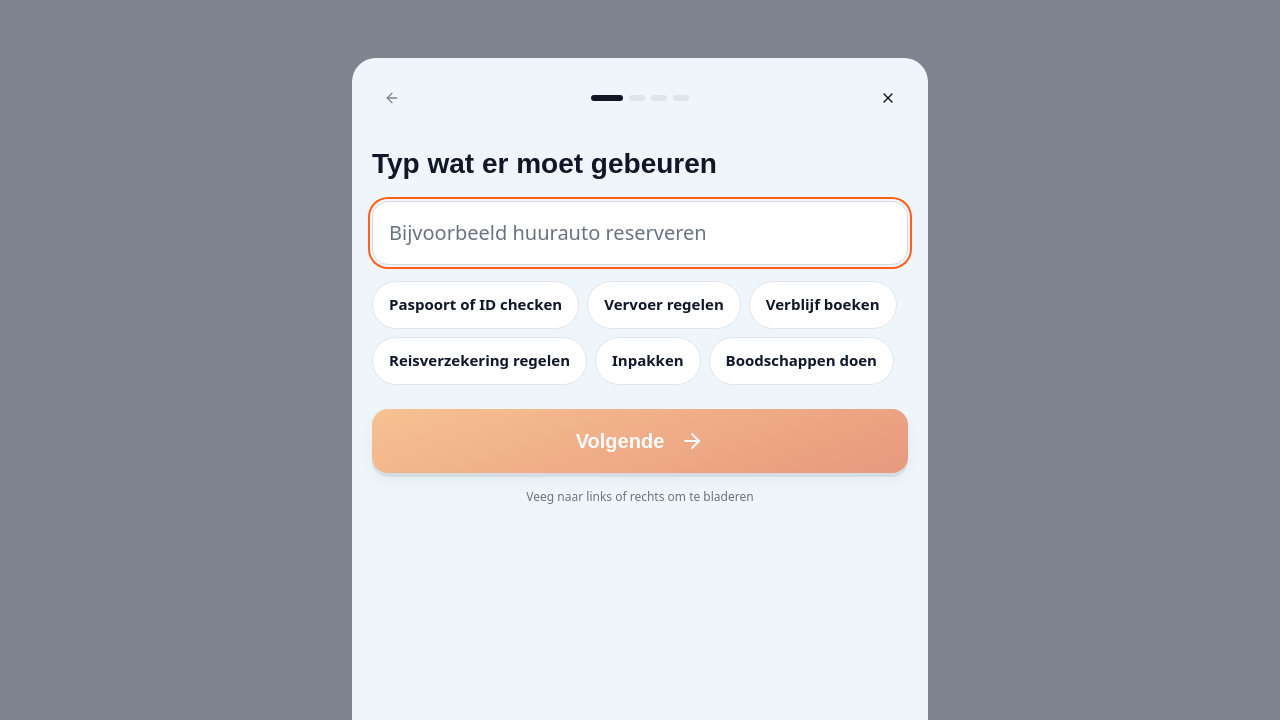
Test: task steps › suggestion → person → no date → summary, saved only on Taak toevoegen
Later steps or results of the test are not shown.
Click the button "Vervoer regelen": (664, 305) [587,281,741,329]
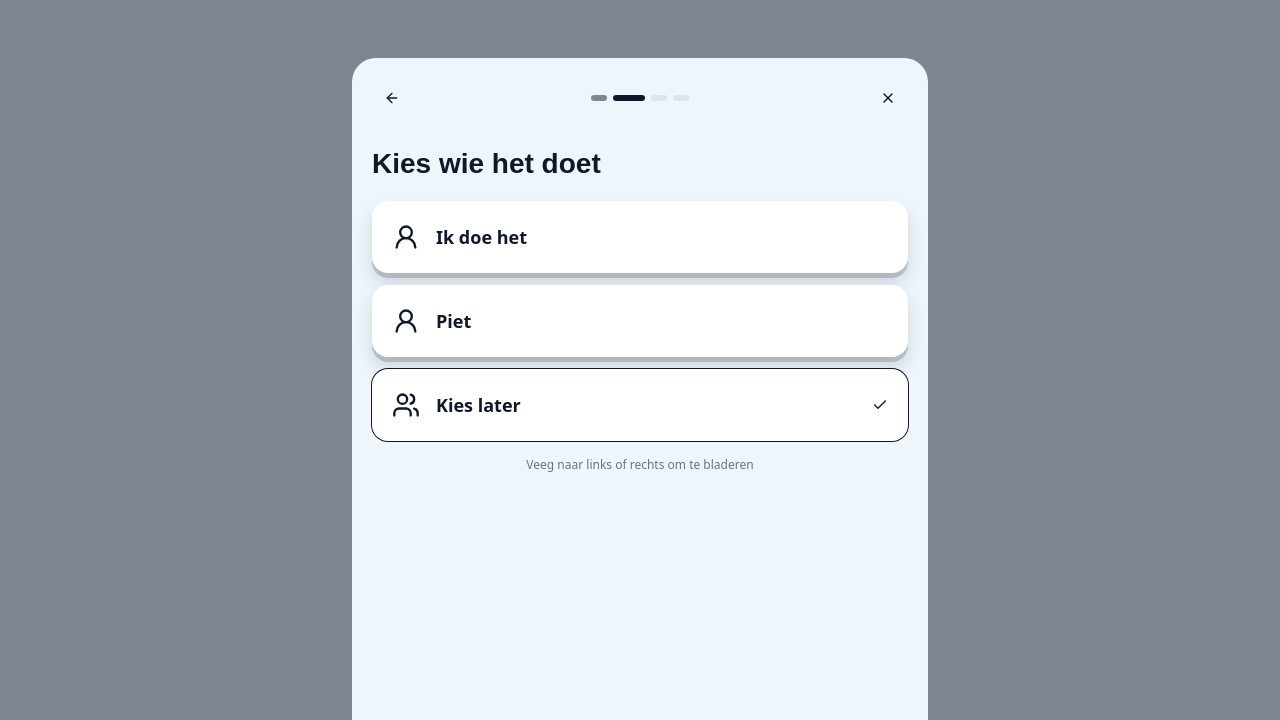
Click the button "Piet": (454, 321) [372,285,908,357]
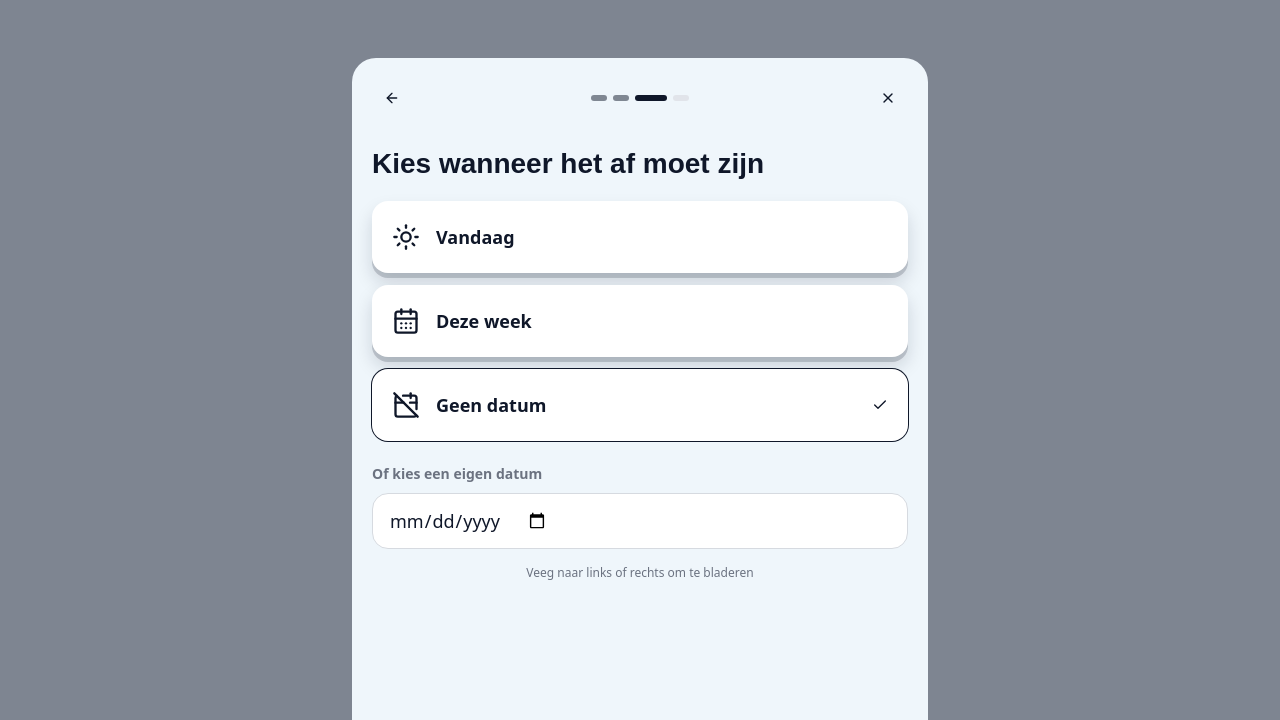
Click the button "Geen datum": (491, 405) [372,369,908,441]
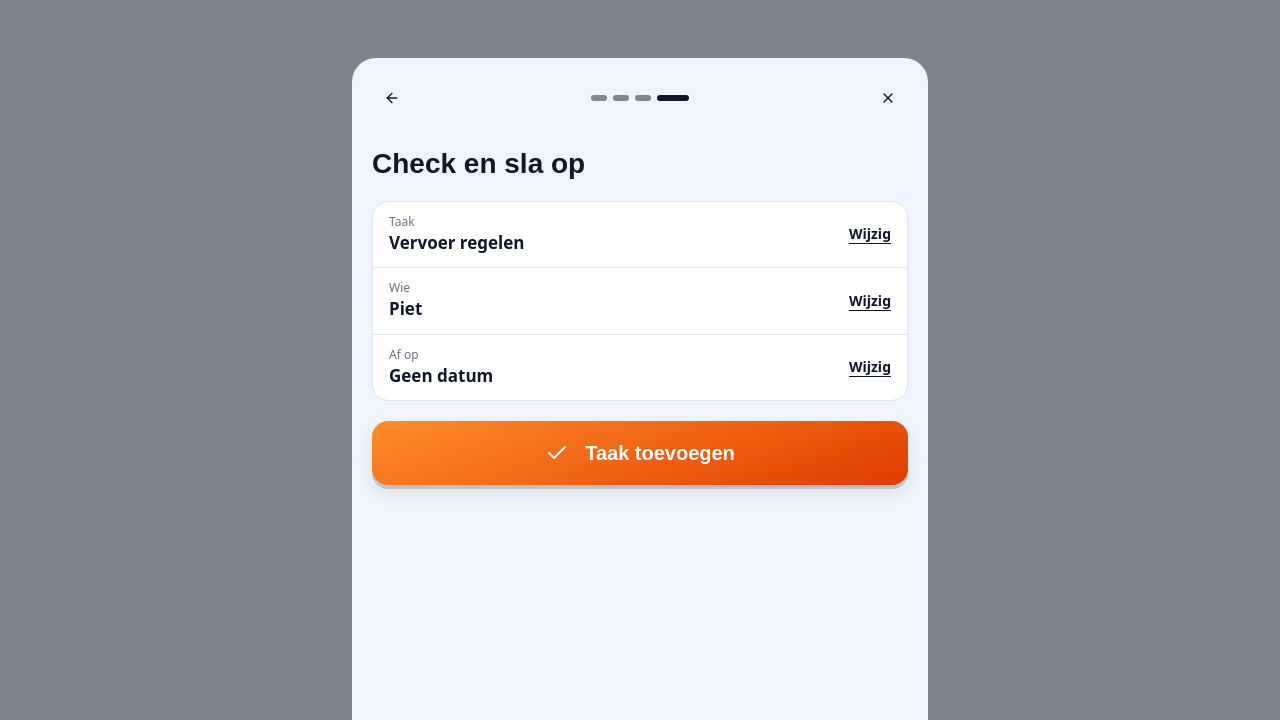
Result: the heading "Check en sla op" is shown at [372,148,585,179]
